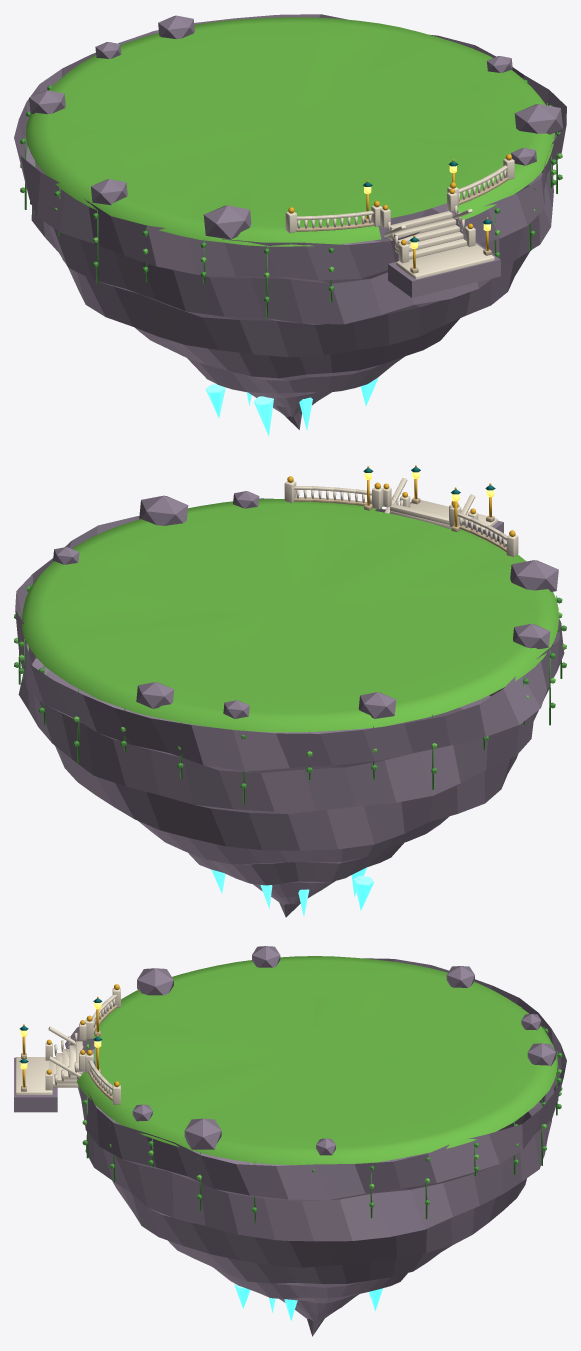
The model's file is insula.glb.
3 renders of one model, top to bottom at view 1: azimuth 30°, elevation 25°; view 2: azimuth 150°, elevation 25°; view 3: azimuth 270°, elevation 25°, orthographic. The views are drawn at different scales.
Visible parts, largest first — view 1: Insula.001; view 2: Insula.001; view 3: Insula.001.
Boxes of the visible parts, <box> form: Insula.001: <box>14,14,566,436</box>; Insula.001: <box>14,465,566,917</box>; Insula.001: <box>14,946,566,1336</box>.
Size of the model in its own units: 15.1 by 10.47 by 16.49.
